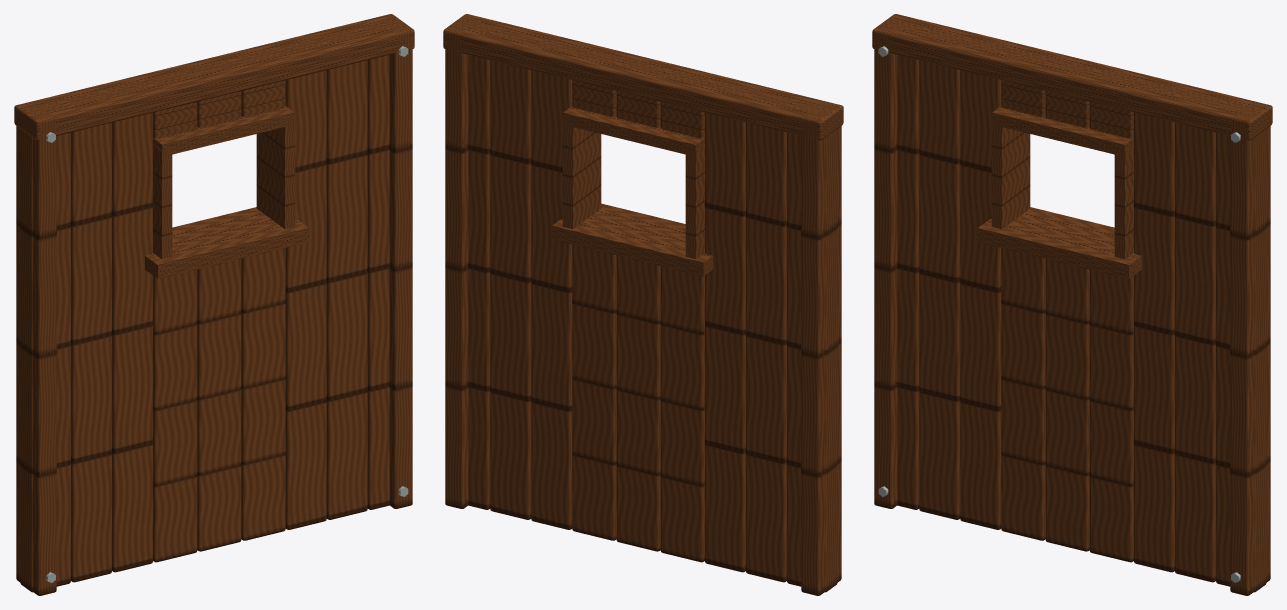
The model's file is modular-survival-base-builder-wall-service-opening-61a6c1eb__24163.glb.
3 renders of one model, left to right at view 1: azimuth 30°, elevation 25°; view 2: azimuth 150°, elevation 25°; view 3: azimuth 330°, elevation 25°, orthographic.
Visible parts, largest first — view 1: wall-service-opening; view 2: wall-service-opening; view 3: wall-service-opening.
Part boxes in pixels (left/top/right/bottom): wall-service-opening: left=14, top=14, right=414, bottom=595; wall-service-opening: left=443, top=14, right=843, bottom=595; wall-service-opening: left=872, top=14, right=1272, bottom=595.
Size of the model in its own units: 2 by 2.4 by 0.3199.
2 materials, 1 textured.
